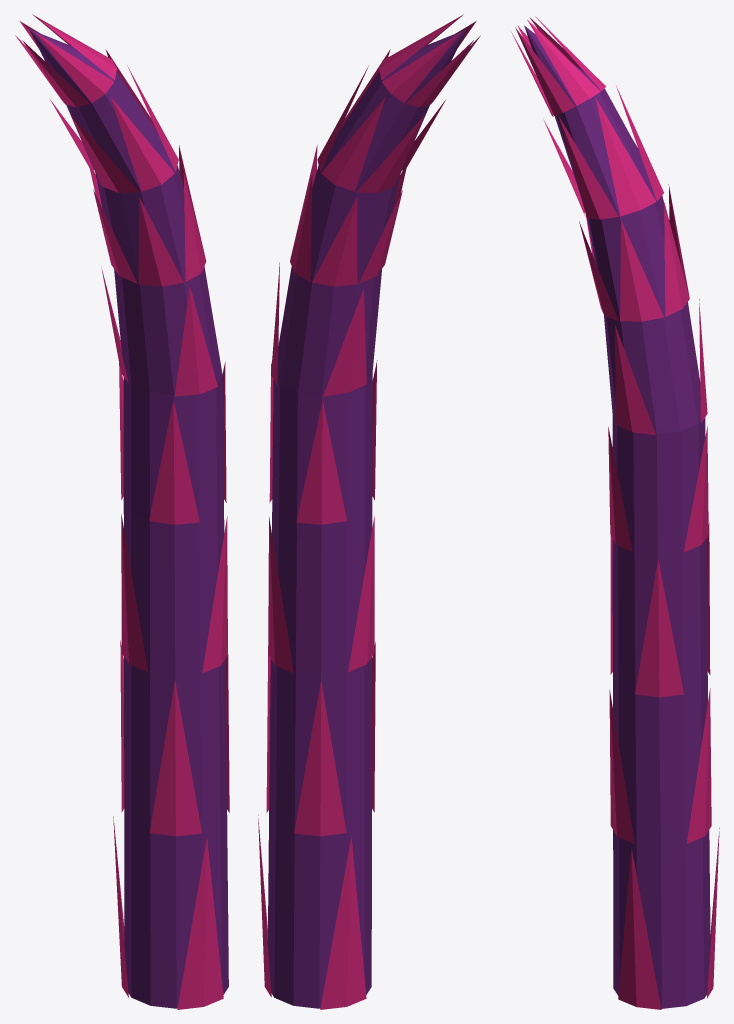
Rendered from asparagus.fbx.
The picture shows the model from 3 angles, left to right: view 1: azimuth 30°, elevation 25°; view 2: azimuth 150°, elevation 25°; view 3: azimuth 330°, elevation 25°; orthographic projection. The views are drawn at different scales.
Parts seen in each view (by area): view 1: Asparagus; view 2: Asparagus; view 3: Asparagus.
Part boxes in pixels (x1=…): Asparagus: x1=15, y1=14, x2=229, y2=1009; Asparagus: x1=258, y1=14, x2=480, y2=1009; Asparagus: x1=511, y1=16, x2=719, y2=1009.
Size of the model in its own units: 9.29 by 42.48 by 4.54.
